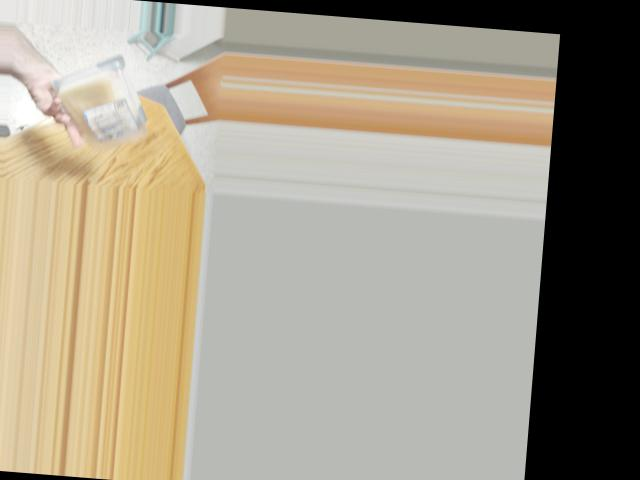cheese: (50, 56, 158, 143)
